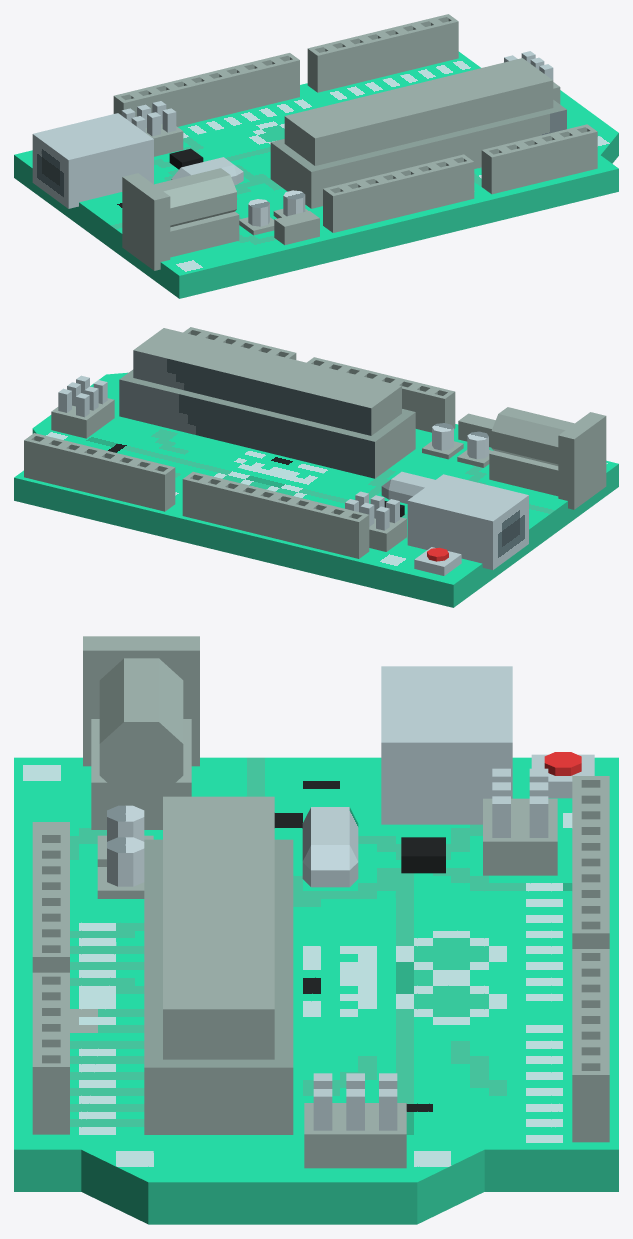
File: arduino-uno.gltf
3 renders of one model, top to bottom at view 1: azimuth 30°, elevation 25°; view 2: azimuth 150°, elevation 25°; view 3: azimuth 270°, elevation 25°, orthographic. The views are drawn at different scales.
Parts seen in each view (by area): view 1: base, ATMEGA, pins, ATMEGA_base, power, battery_face, battery_cylinder, GND (×3), battery, cuboid (×2), A0, nc (+17 smaller); view 2: base, ATMEGA, ATMEGA_base, pins, power, battery_face, battery_cylinder, cuboid (×2), battery, SCL, cap (×2), nc (+10 smaller); view 3: base, ATMEGA, ATMEGA_base, power, cuboid (×7), battery_cylinder, pins, battery_face, cuboid_base, beveled_cuboid, battery, RX (+8 smaller).
Boxes of the visible parts, x1,y1,x2,y2 form: base: (14,51,618,298); ATMEGA: (284,58,553,165); pins: (184,22,423,122); ATMEGA_base: (270,100,566,208); power: (32,113,153,208); battery_face: (122,173,170,270); battery_cylinder: (154,168,236,227); GND (×3): (167,78,456,211); battery: (170,211,239,257); cuboid (×2): (169,148,319,245); A0: (481,146,509,194); nc: (323,184,350,232); base: (14,372,618,607); ATMEGA: (133,328,401,435); ATMEGA_base: (119,369,415,478); pins: (59,441,298,541); power: (407,474,528,569); battery_face: (558,412,606,509); battery_cylinder: (491,407,574,465); cuboid (×2): (51,398,495,447); battery: (489,450,558,496); SCL: (341,510,369,558); cap (×2): (432,423,488,459); nc: (427,387,455,432); base: (14,757,618,1224); ATMEGA: (163,796,274,1059); ATMEGA_base: (144,839,293,1134); power: (381,666,512,824); cuboid (×7): (304,796,548,1168); battery_cylinder: (99,658,183,797); pins: (572,839,609,1053); battery_face: (83,636,199,766); cuboid_base: (483,798,557,875); beveled_cuboid: (302,807,358,887); battery: (91,719,191,829); RX: (572,1059,609,1142).
Bounding box in the file's own units: 1.72 × 0.2969 × 1.02.
1 material, 1 textured.
